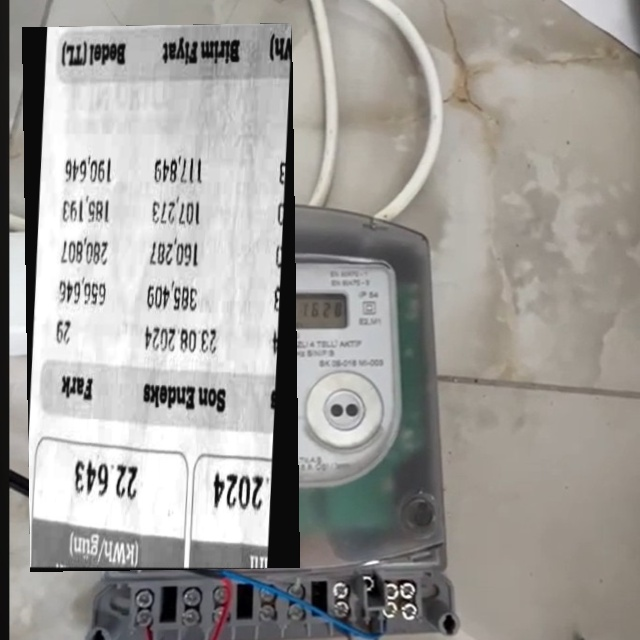electricity-bill: (21, 22, 299, 571)
